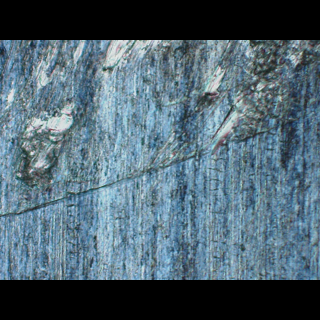d: (1, 40, 317, 221)
